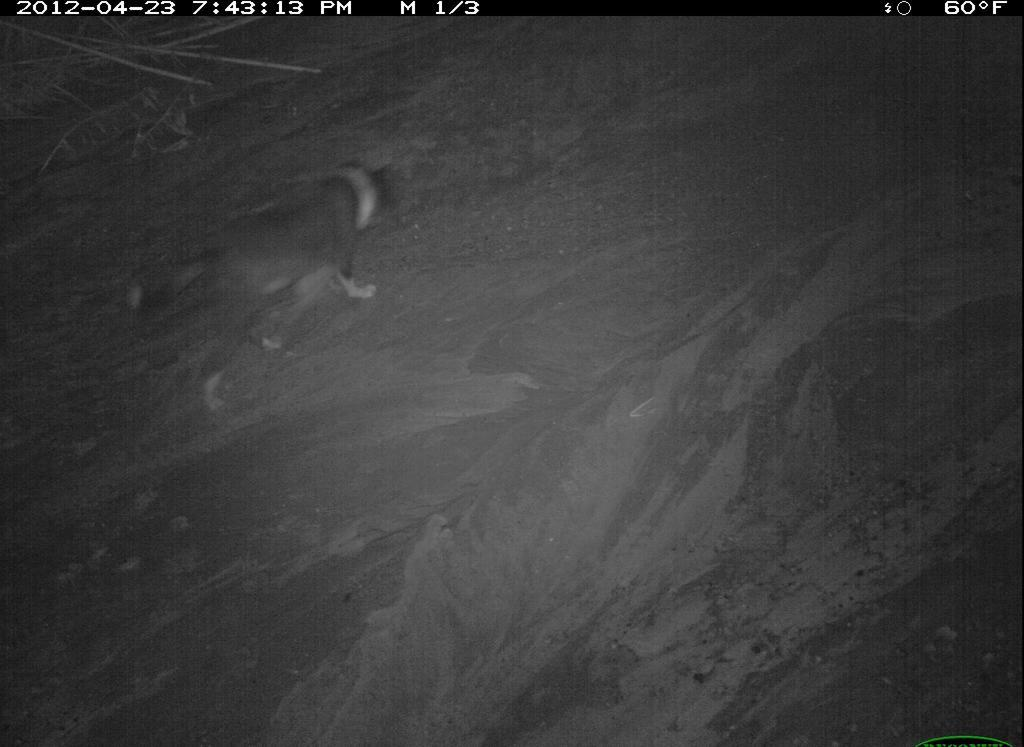dog: (233, 290, 812, 747)
